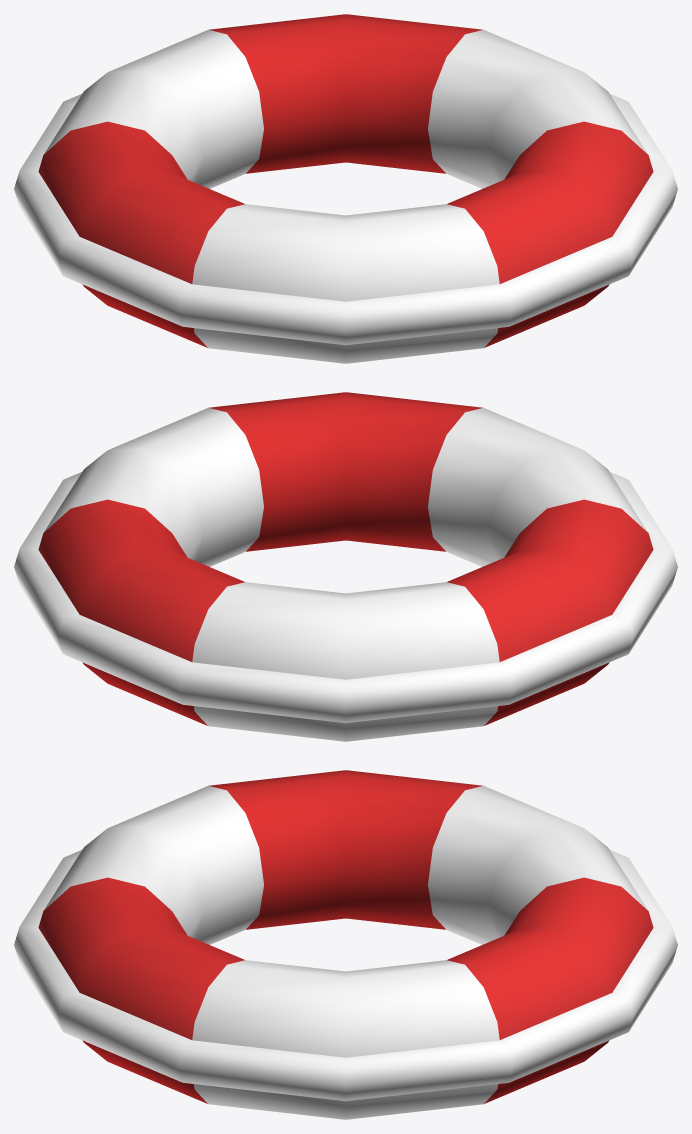
Rendered from simit.fbx.
3 renders of one model, top to bottom at view 1: azimuth 30°, elevation 25°; view 2: azimuth 150°, elevation 25°; view 3: azimuth 270°, elevation 25°, orthographic.
Parts seen in each view (by area): view 1: simit; view 2: simit; view 3: simit.
Part boxes in pixels (<box>): simit: <box>14,14,677,363</box>; simit: <box>14,392,677,741</box>; simit: <box>14,770,677,1119</box>.
Bounding box in the file's own units: 329 × 73.72 × 329.
